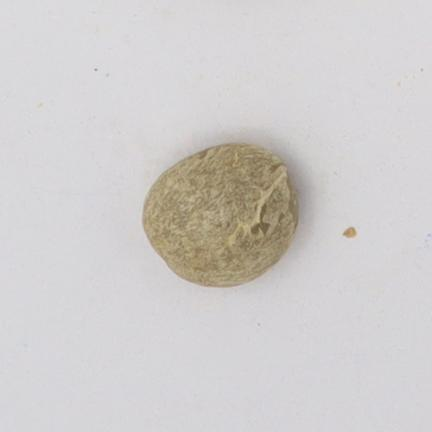immature: (143, 143, 297, 286)
